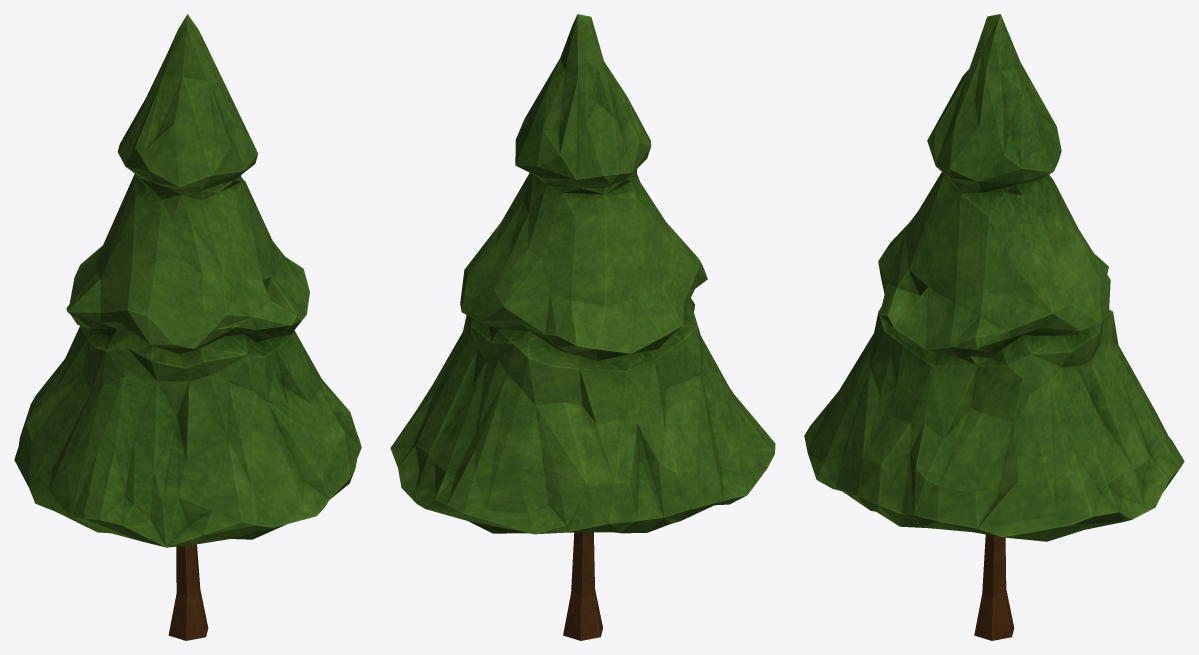
File: TreeC-Ep3.fbx
3 renders of one model, left to right at view 1: azimuth 30°, elevation 25°; view 2: azimuth 150°, elevation 25°; view 3: azimuth 270°, elevation 25°, orthographic.
Visible parts, largest first — view 1: TreeC; view 2: TreeC; view 3: TreeC.
Boxes of the visible parts, x1,y1,x2,y2 form: TreeC: (14, 14, 361, 640); TreeC: (390, 14, 775, 640); TreeC: (804, 14, 1184, 640).
Bounding box in the file's own units: 2032 × 3779 × 2105.
